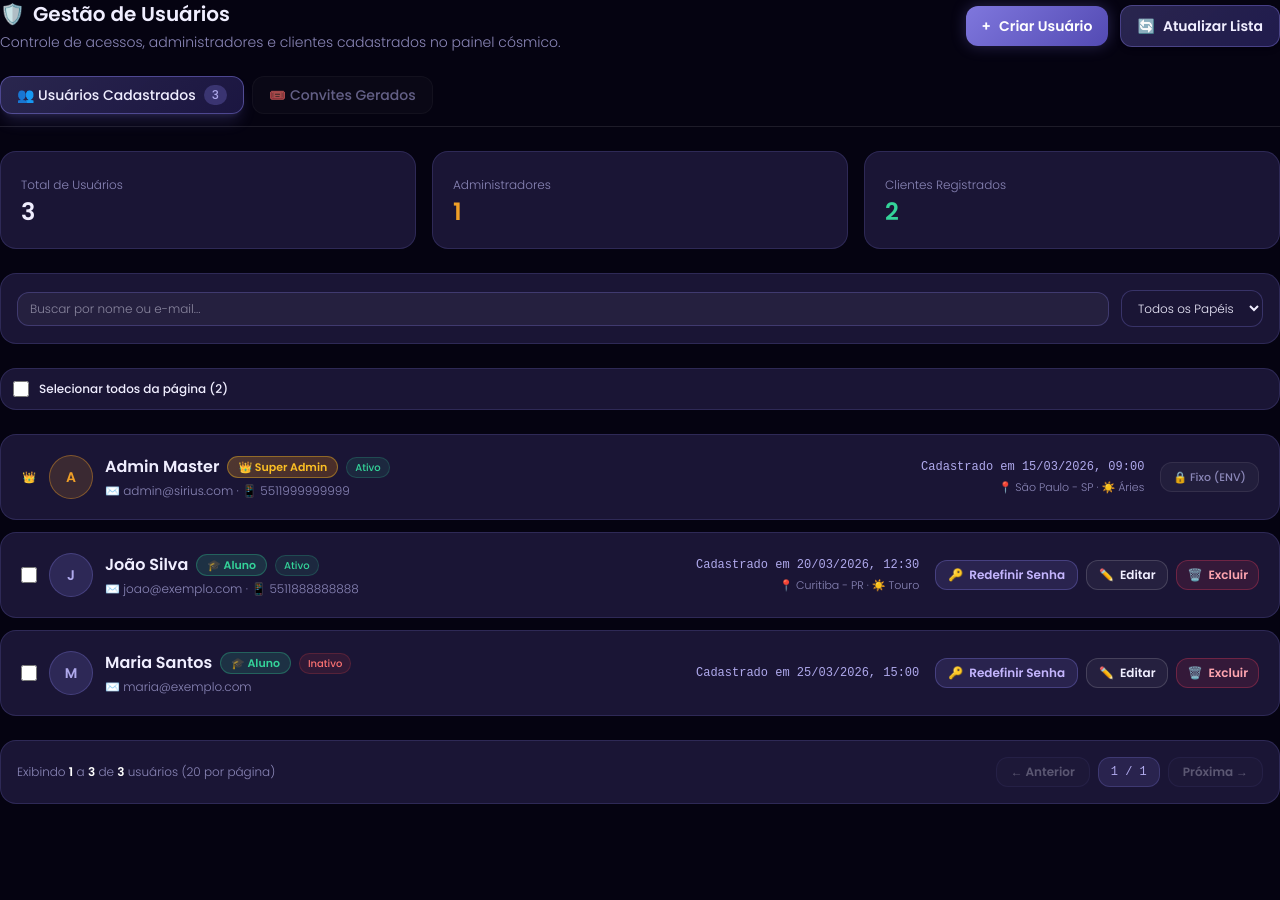
Test case: GestaoUsuarios Component › permite gerar link de redefinição de senha ao clicar no botão Redefinir Senha
# Clicar em Redefinir Senha no usuário 2
Click the button with test id "reset-user-pwd-btn-2": (1007, 575) [935,560,1078,590]
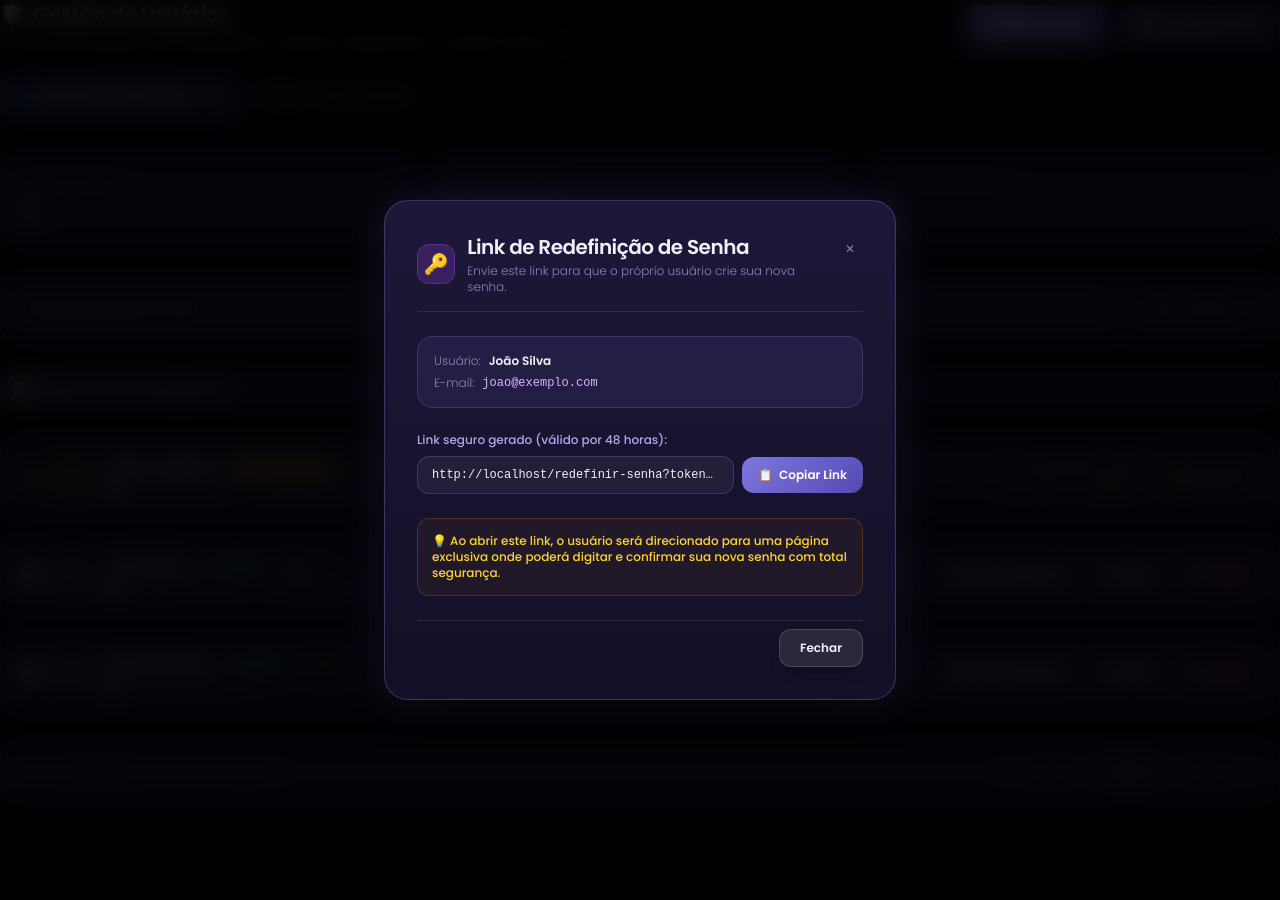
Expected: the element with test id "redefinir-senha-modal-backdrop" is shown
Expected: the heading "Link de Redefinição de Senha" is shown, [467,233,749,261]
